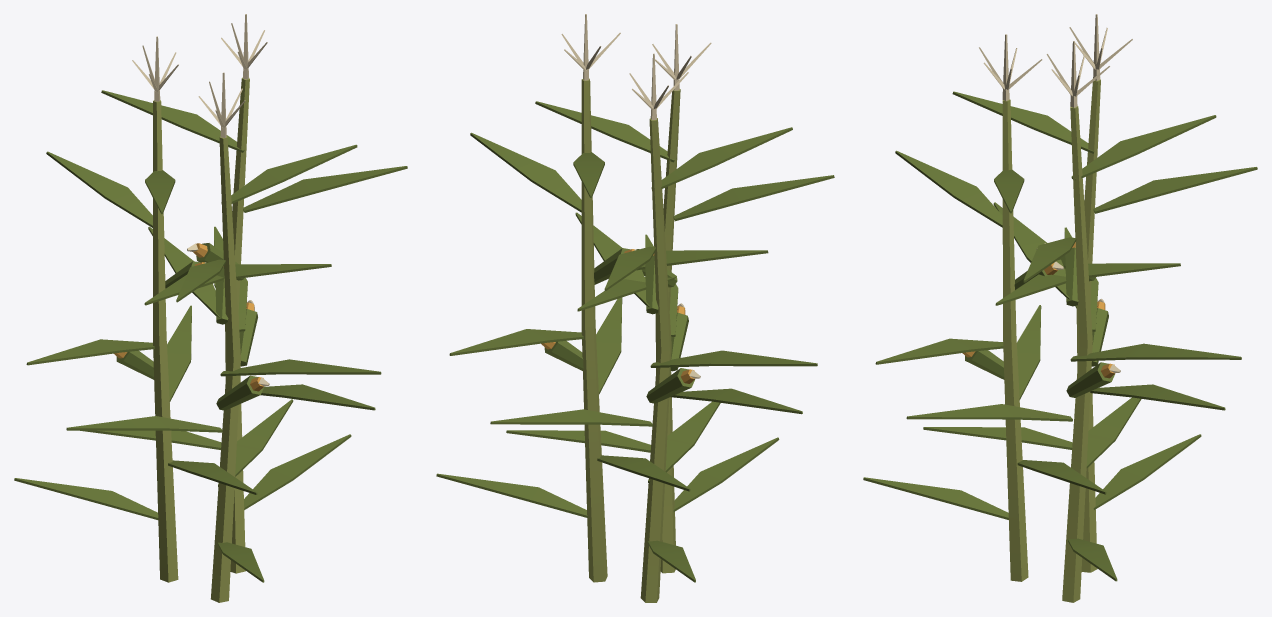
Rendered from crop_corn_mature.glb.
The picture shows the model from 3 angles, left to right: view 1: azimuth 30°, elevation 25°; view 2: azimuth 150°, elevation 25°; view 3: azimuth 270°, elevation 25°; orthographic projection.
Parts seen in each view (by area): view 1: corn_ear_00_0_husk, corn_stalk_00, corn_ear_00_0_silk; view 2: corn_ear_00_0_husk, corn_stalk_00, corn_ear_00_0_silk; view 3: corn_ear_00_0_husk, corn_stalk_00, corn_ear_00_0_silk.
Boxes of the visible parts, <box> form: corn_ear_00_0_husk: <box>14,90,407,582</box>; corn_stalk_00: <box>153,77,249,602</box>; corn_ear_00_0_silk: <box>132,14,269,386</box>; corn_ear_00_0_husk: <box>436,101,834,582</box>; corn_stalk_00: <box>581,78,680,602</box>; corn_ear_00_0_silk: <box>561,14,711,378</box>; corn_ear_00_0_husk: <box>863,91,1257,581</box>; corn_stalk_00: <box>1002,79,1100,602</box>; corn_ear_00_0_silk: <box>979,14,1132,372</box>.
Bounding box in the file's own units: 1.64 × 2.4 × 1.52.
